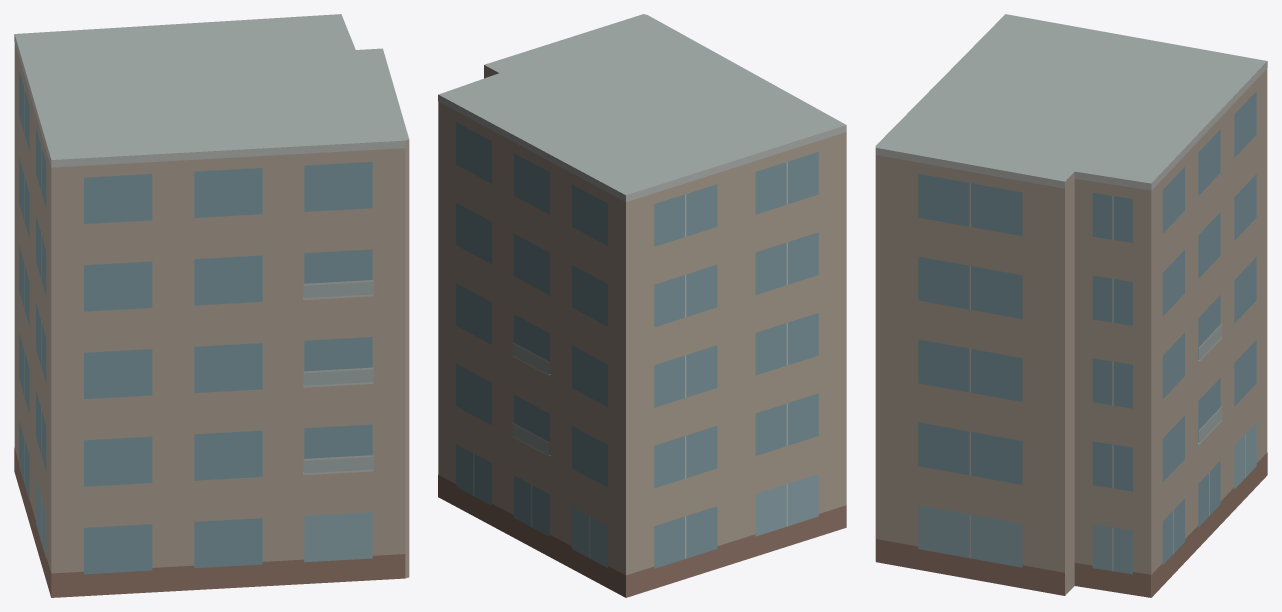
Rendered from survey-upis-32781262.glb.
The picture shows the model from 3 angles, left to right: view 1: azimuth 30°, elevation 25°; view 2: azimuth 150°, elevation 25°; view 3: azimuth 270°, elevation 25°; orthographic projection. The views are drawn at different scales.
Parts seen in each view (by area): view 1: survey-upis-32781262.tmp; view 2: survey-upis-32781262.tmp; view 3: survey-upis-32781262.tmp.
Part boxes in pixels (bbox=[...]): survey-upis-32781262.tmp: bbox=[14, 14, 409, 597]; survey-upis-32781262.tmp: bbox=[438, 14, 846, 597]; survey-upis-32781262.tmp: bbox=[875, 14, 1267, 597].
Bounding box in the file's own units: 12.47 × 14.2 × 12.18.
